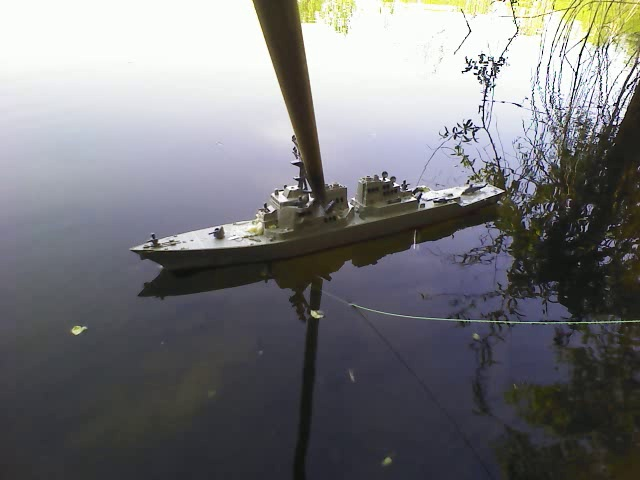warship: (129, 167, 505, 276)
